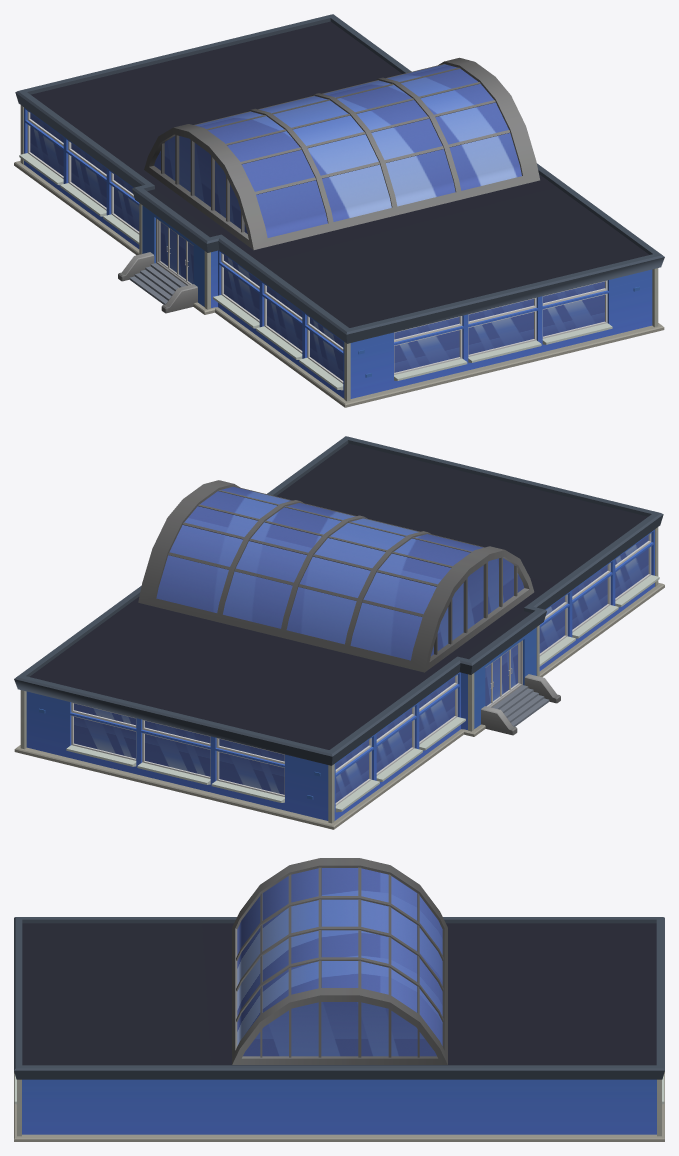
Rendered from Building_16_2_H.glb.
The picture shows the model from 3 angles, top to bottom: view 1: azimuth 30°, elevation 25°; view 2: azimuth 150°, elevation 25°; view 3: azimuth 270°, elevation 25°; orthographic projection.
Visible parts, largest first — view 1: Building_16_2_H; view 2: Building_16_2_H; view 3: Building_16_2_H.
Part boxes in pixels (left/top/right/bottom): Building_16_2_H: left=14, top=14, right=664, bottom=407; Building_16_2_H: left=14, top=436, right=664, bottom=829; Building_16_2_H: left=14, top=858, right=664, bottom=1141.
Size of the model in its own units: 18.88 by 7.18 by 30.26.
3 materials, 3 textured.
